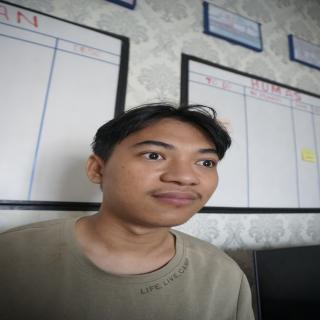Marah: (112, 112, 224, 228)
